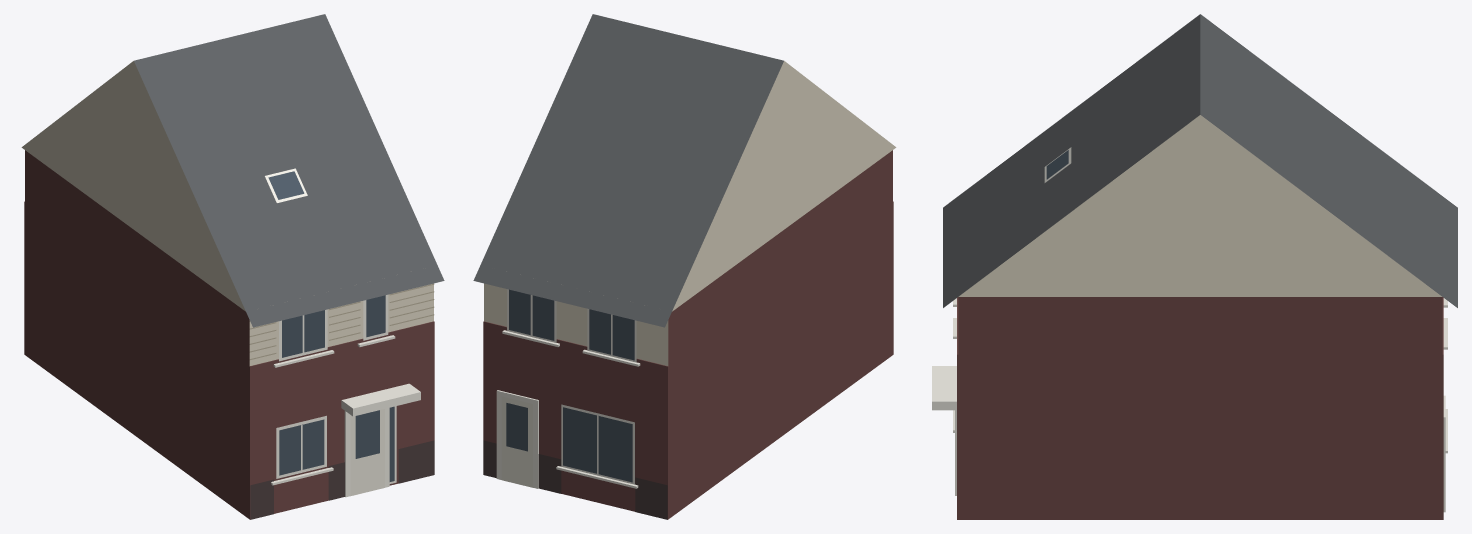
File: th-gk-row__hood__2__gable__long__solid__f0d1.glb
3 views of the same model, side by side, from view 1: azimuth 30°, elevation 25°; view 2: azimuth 150°, elevation 25°; view 3: azimuth 270°, elevation 25° (orthographic). The views are drawn at different scales.
Parts seen in each view (by area): view 1: th-gk-row__hood__2__gable__long__solid__f0d1; view 2: th-gk-row__hood__2__gable__long__solid__f0d1; view 3: th-gk-row__hood__2__gable__long__solid__f0d1.
Part boxes in pixels (<box>): th-gk-row__hood__2__gable__long__solid__f0d1: <box>21,14,444,519</box>; th-gk-row__hood__2__gable__long__solid__f0d1: <box>473,14,896,519</box>; th-gk-row__hood__2__gable__long__solid__f0d1: <box>932,14,1457,519</box>.
Size of the model in its own units: 5.49 by 10.35 by 12.11.
